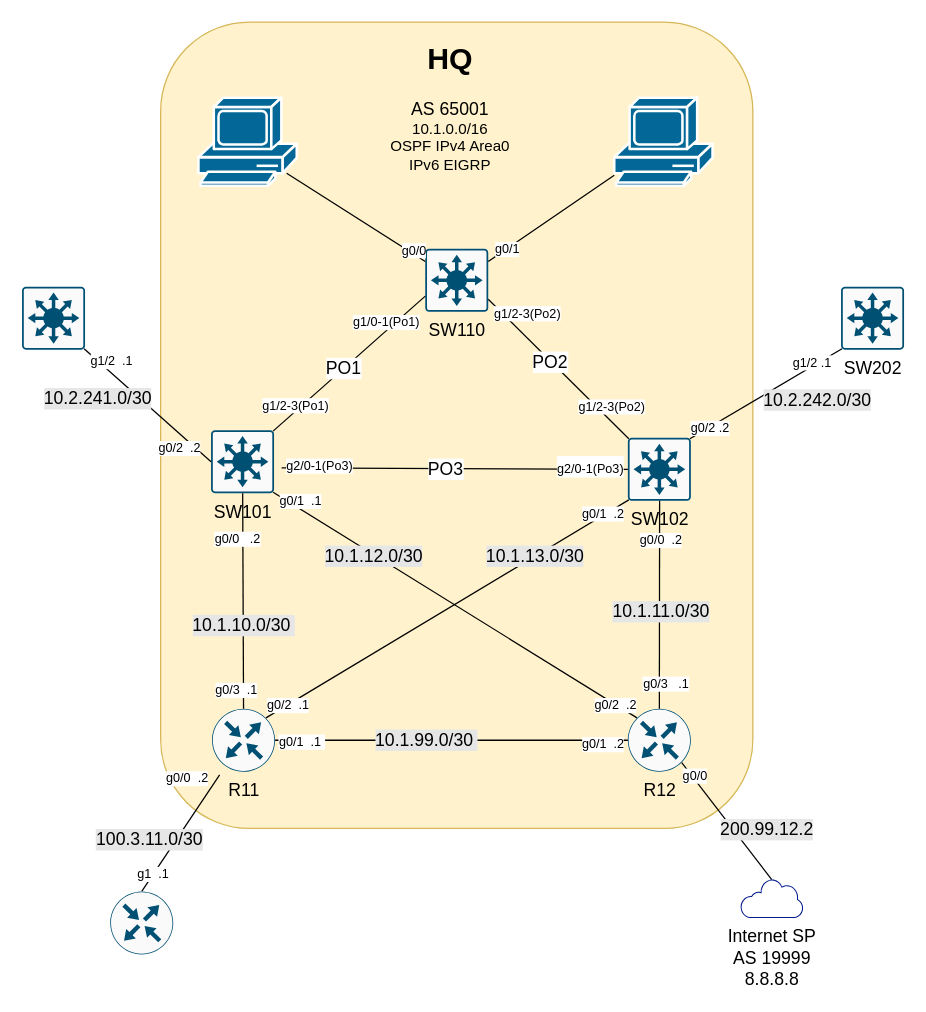
This 926x1012 diagram has some shape labels left out. Each missing label, with the centre of its shape:
Host11: point (247, 141)
Host12: point (662, 141)
R3: point (141, 922)
SW201: point (53, 317)
